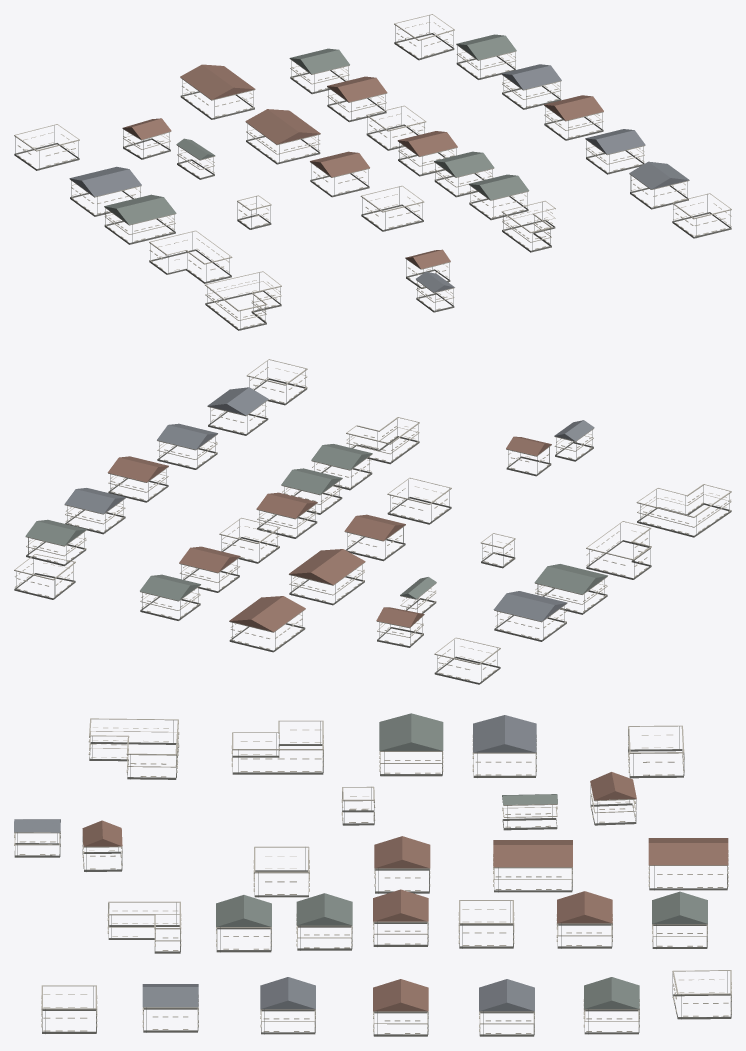
The model's file is district_-2_0.glb.
3 renders of one model, top to bottom at view 1: azimuth 30°, elevation 25°; view 2: azimuth 150°, elevation 25°; view 3: azimuth 270°, elevation 25°, orthographic. The views are drawn at different scales.
Visible parts, largest first — view 1: RoofMetal, MasonryTrim, MetalDetails; view 2: RoofMetal, MasonryTrim, MetalDetails; view 3: RoofMetal, MasonryTrim, MetalDetails.
Boxes of the visible parts, x1=… form: RoofMetal: x1=69, y1=34, x2=689, y2=292; MasonryTrim: x1=14, y1=14, x2=731, y2=330; MetalDetails: x1=15, y1=15, x2=730, y2=330; RoofMetal: x1=25, y1=387, x2=607, y2=631; MasonryTrim: x1=14, y1=359, x2=731, y2=684; MetalDetails: x1=16, y1=361, x2=729, y2=683; RoofMetal: x1=14, y1=713, x2=728, y2=1011; MasonryTrim: x1=14, y1=718, x2=731, y2=1036; MetalDetails: x1=17, y1=720, x2=731, y2=1036.
Bounding box in the file's own units: 186 × 10.1 × 192.
